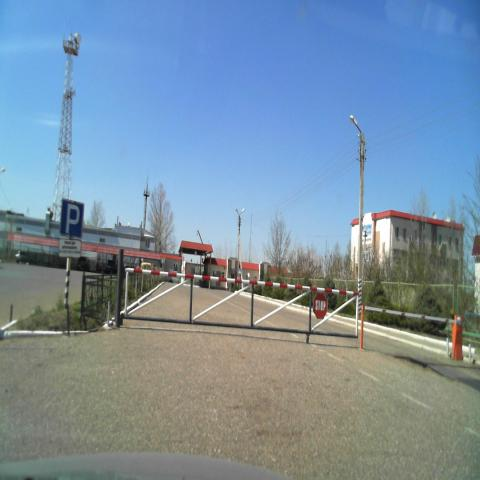2_5: (312, 289, 329, 319)
